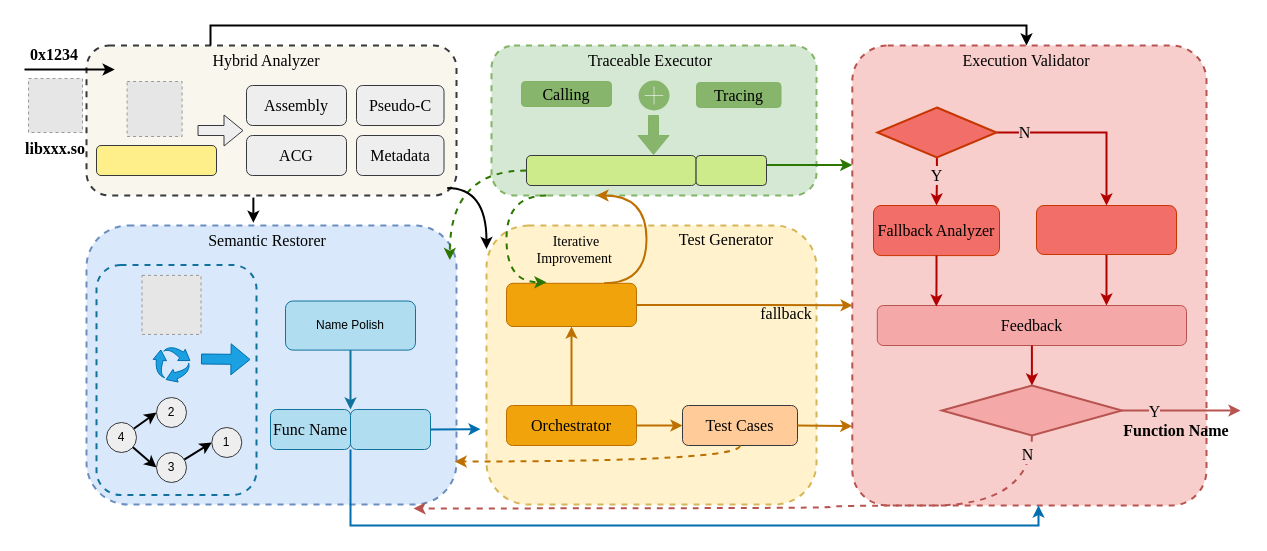
This 1267x551 diagram has some shape labels left out. Grey dashed boxes stand in for pictures. Here are the shapes that lost their labels. From the top down, the centre of each, then its label:
At point 936,132: "Crash?".
At point 156,160: "Simpleperf".
At point 611,170: "Args + Return".
At point 730,170: "Trace".
At point 1106,229: "Normal Analyzer".
At point 571,304: "Materializer".
At point 390,429: "Summary".
At point 1031,410: "consistent OR exhaust".
